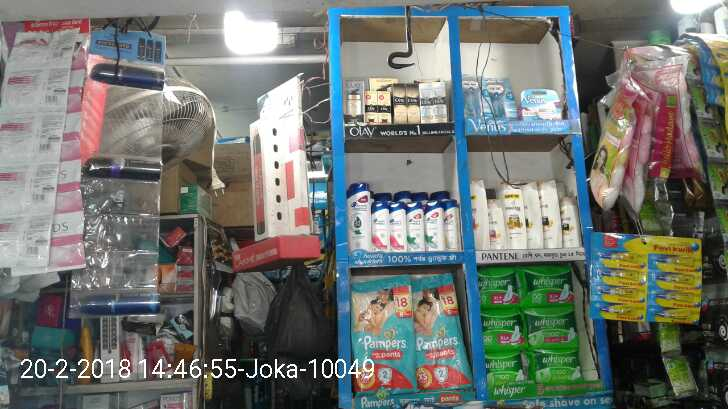venus: (486, 74, 520, 116), (522, 87, 560, 117), (466, 74, 486, 118)
